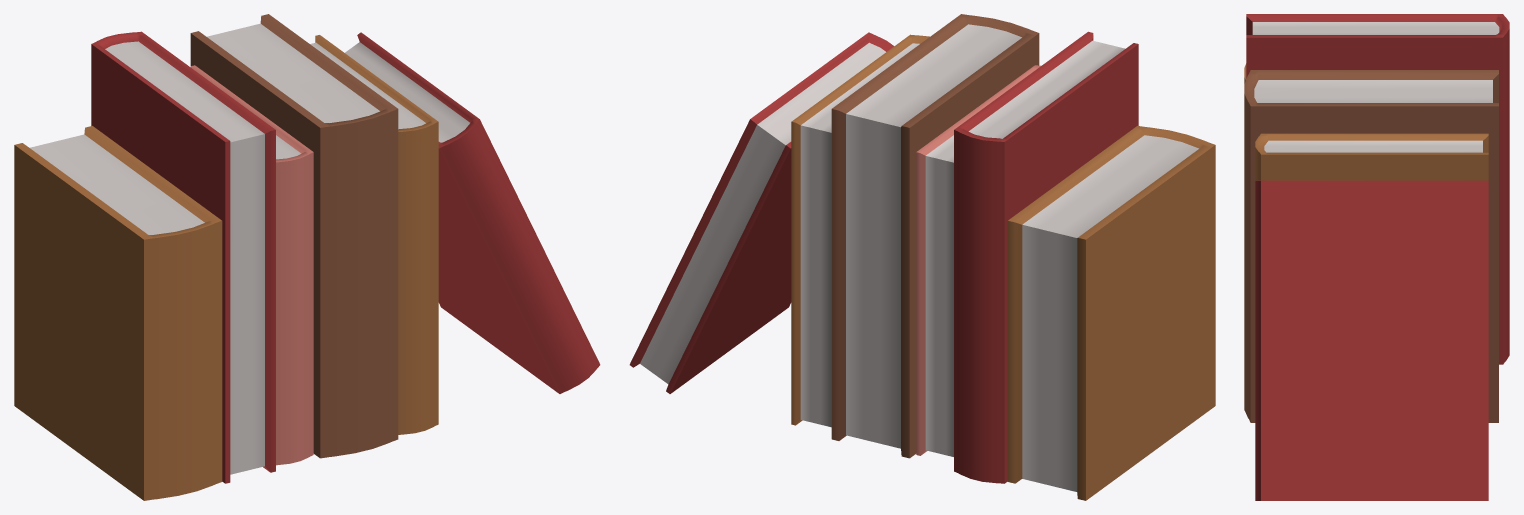
Rendered from Mesh_Book_02.fbx.
3 views of the same model, side by side, from view 1: azimuth 30°, elevation 25°; view 2: azimuth 150°, elevation 25°; view 3: azimuth 270°, elevation 25° (orthographic). The views are drawn at different scales.
Visible parts, largest first — view 1: Book5, Book4, Book2, Book7, Book6, Book3; view 2: Book5, Book4, Book2, Book7, Book6, Book3; view 3: Book7, Book4, Book2, Book6.
Boxes of the visible parts, x1,y1,x2,y2 form: Book5: [14, 126, 222, 500]; Book4: [190, 14, 398, 458]; Book2: [91, 31, 275, 483]; Book7: [345, 32, 600, 393]; Book6: [310, 35, 438, 434]; Book3: [190, 65, 313, 465]; Book5: [1007, 126, 1215, 500]; Book4: [831, 14, 1039, 458]; Book2: [954, 31, 1138, 483]; Book7: [629, 32, 893, 393]; Book6: [791, 34, 929, 427]; Book3: [916, 65, 1041, 456]; Book7: [1255, 180, 1488, 500]; Book4: [1244, 70, 1498, 422]; Book2: [1246, 14, 1509, 364]; Book6: [1255, 133, 1488, 180].
Bounding box in the file's own units: 54.93 × 38.85 × 28.56.
